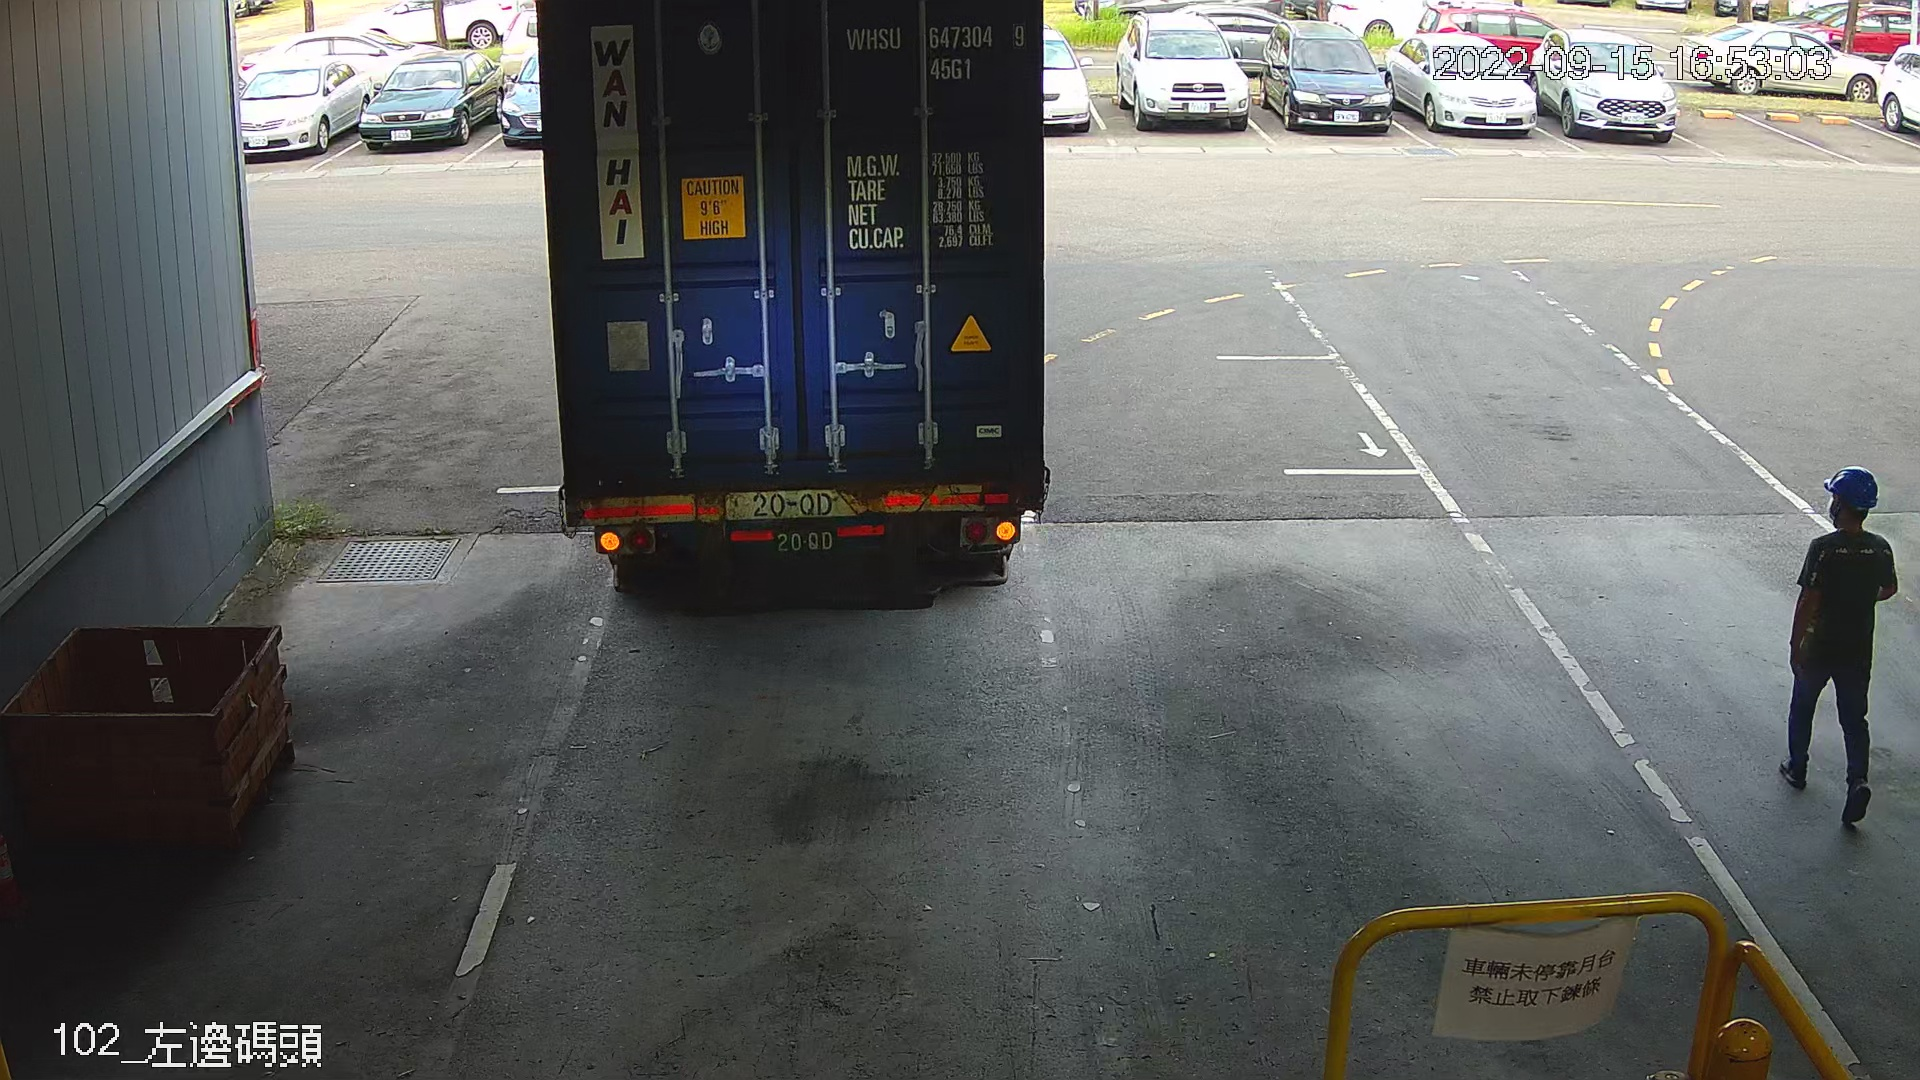container: (837, 15, 1033, 88)
